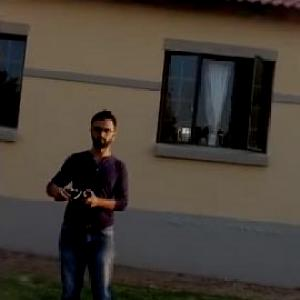follow: (34, 104, 134, 299)
